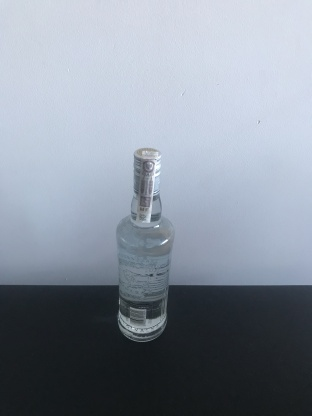nakretka: (130, 143, 164, 199)
